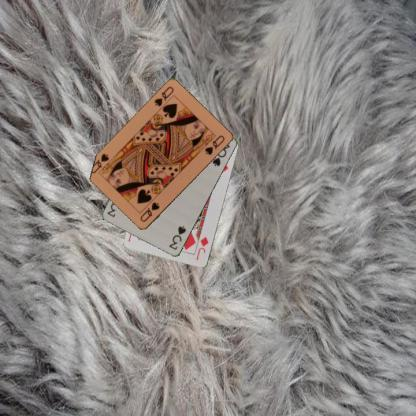3s: (166, 224, 188, 251)
Jd: (193, 234, 210, 261)
Qs: (151, 84, 175, 108), (138, 200, 160, 223)
